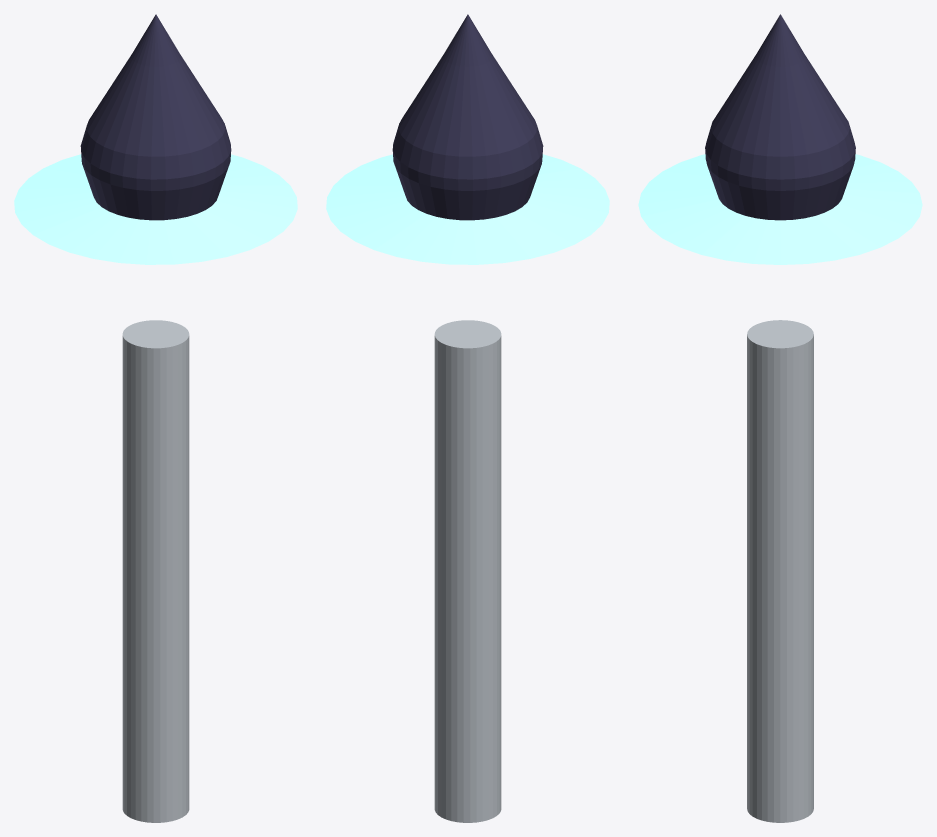
File: Flower.fbx
3 renders of one model, left to right at view 1: azimuth 30°, elevation 25°; view 2: azimuth 150°, elevation 25°; view 3: azimuth 270°, elevation 25°, orthographic.
Visible parts, largest first — view 1: Cylinder.058; view 2: Cylinder.058; view 3: Cylinder.058.
Part boxes in pixels (box(x1,y1,x2,y2)): Cylinder.058: box(14, 14, 297, 822); Cylinder.058: box(326, 14, 609, 822); Cylinder.058: box(638, 14, 922, 822).
Size of the model in its own units: 0.3282 by 1.01 by 0.3282.
